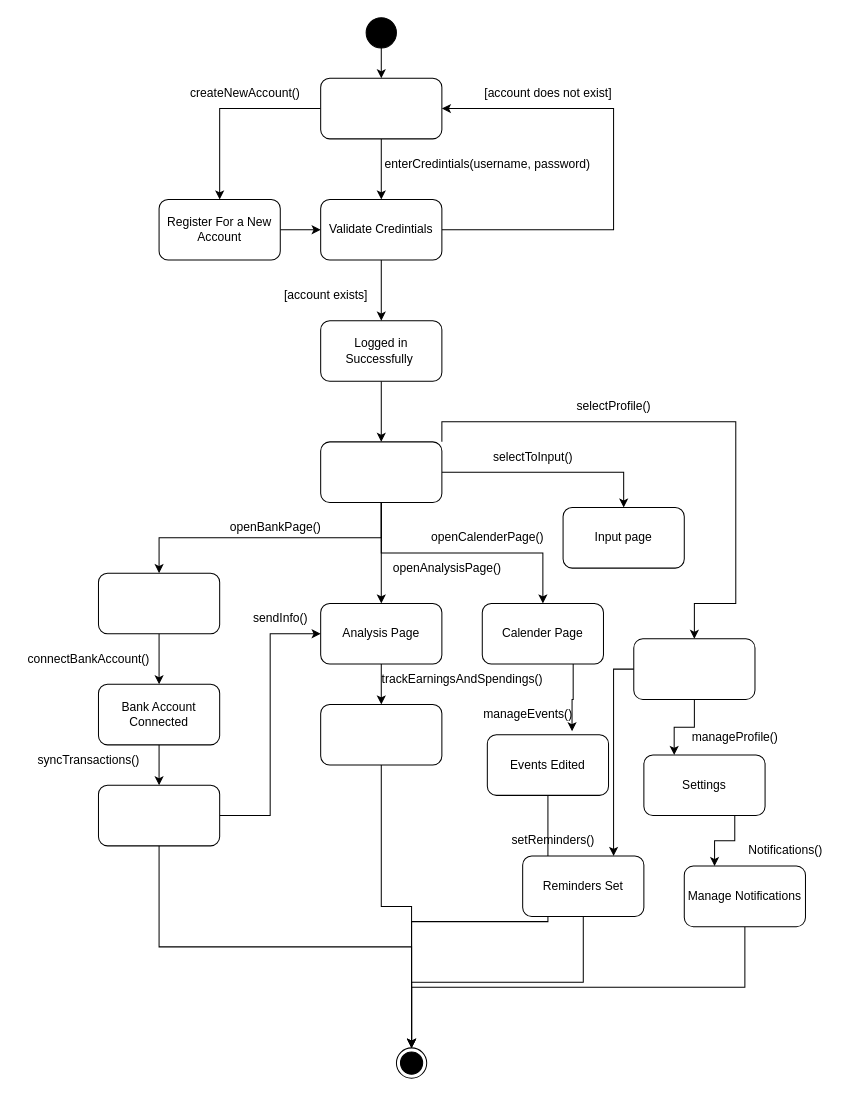
Some shapes in this 852 by 1096 pixel diagram are drawn without their labels. Each missing label, with the centre of its shape:
"Bank Page" belongs at pixel 158 603.
"Give Access to Dashboard" belongs at pixel 381 471.
"Login Page Displayed" belongs at pixel 381 108.
"Profile" belongs at pixel 694 668.
"Track earnings and spendings" belongs at pixel 381 734.
"Transactions Synched" belongs at pixel 158 815.
